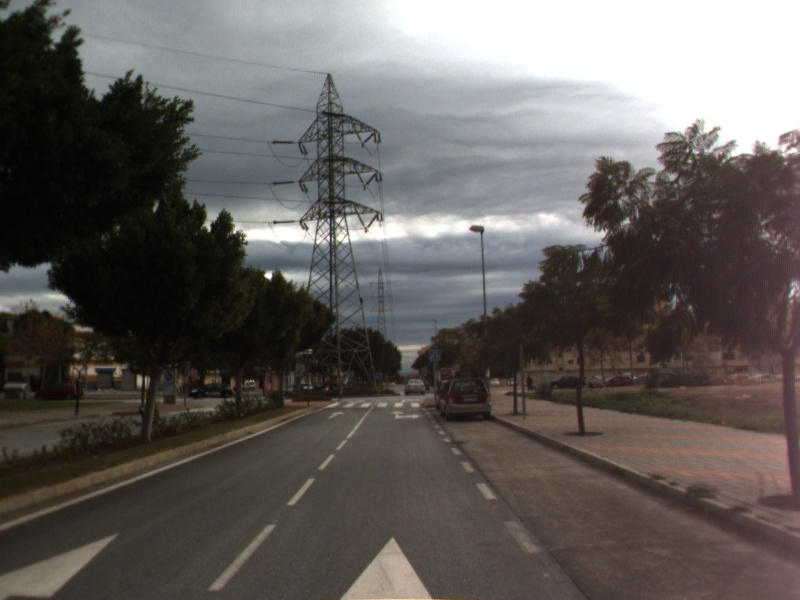STRAIGHT: (325, 409, 347, 421)
STRAIGHT_RIGHT: (387, 409, 423, 421)
